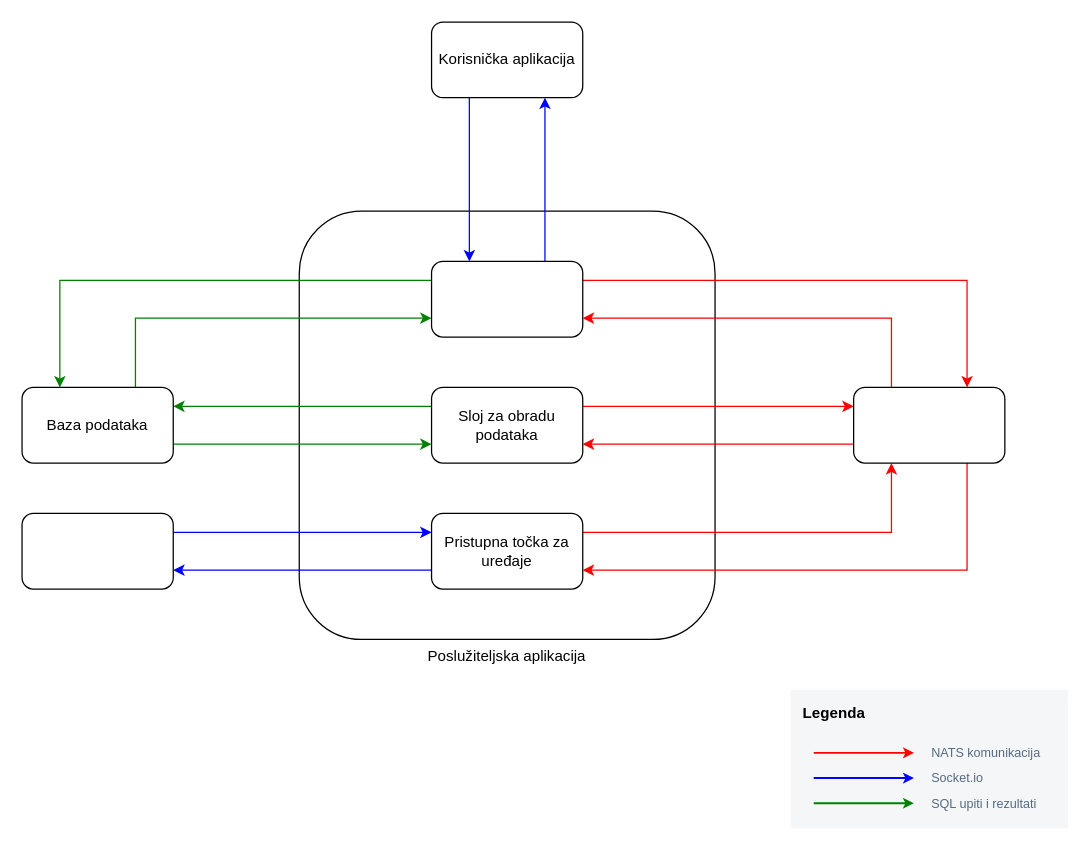
The diagram is 1090 pixels wide and 851 high, and some of its shapes have lost their labels. The centre of each missing label's shape, as x and y in pixels:
"NATS poslužitelj" belongs at (928,424).
"Pristupna točka za korisničku aplikaciju" belongs at (506,298).
"Uređaji (1..n)" belongs at (97,550).
